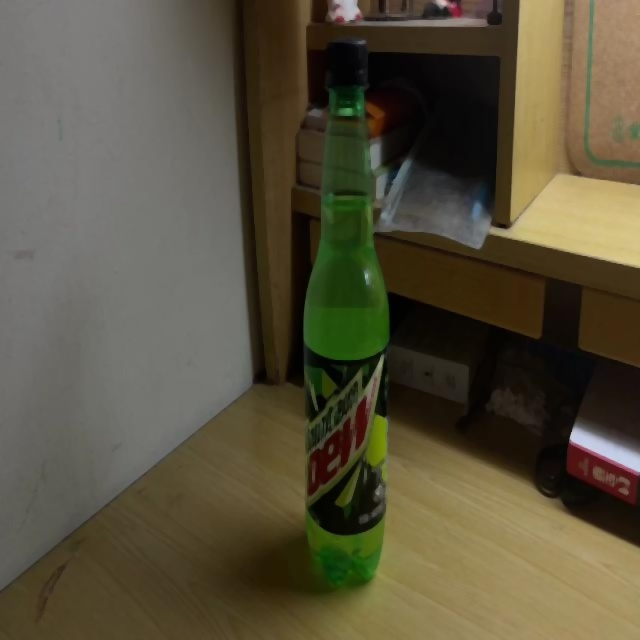Mountain-Dew: (303, 37, 389, 590)
